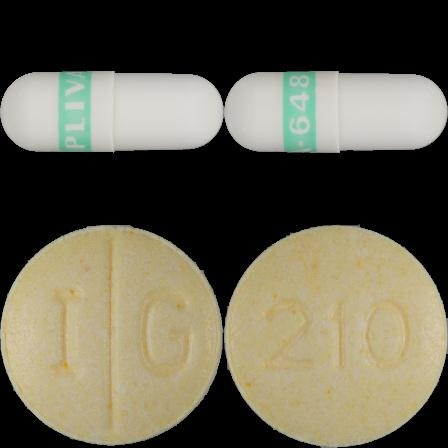76237-159: (0, 0, 224, 224)
